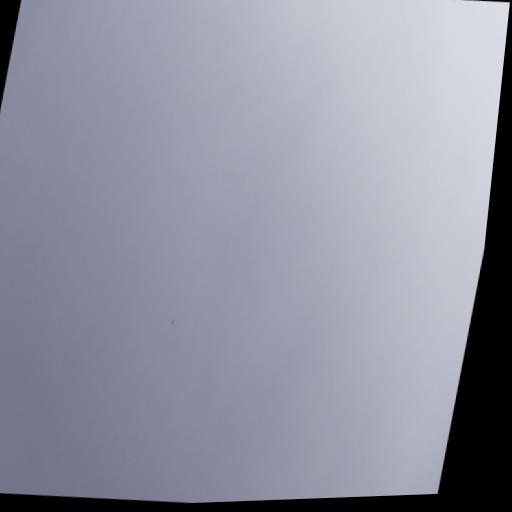drones: (169, 317, 176, 326)
